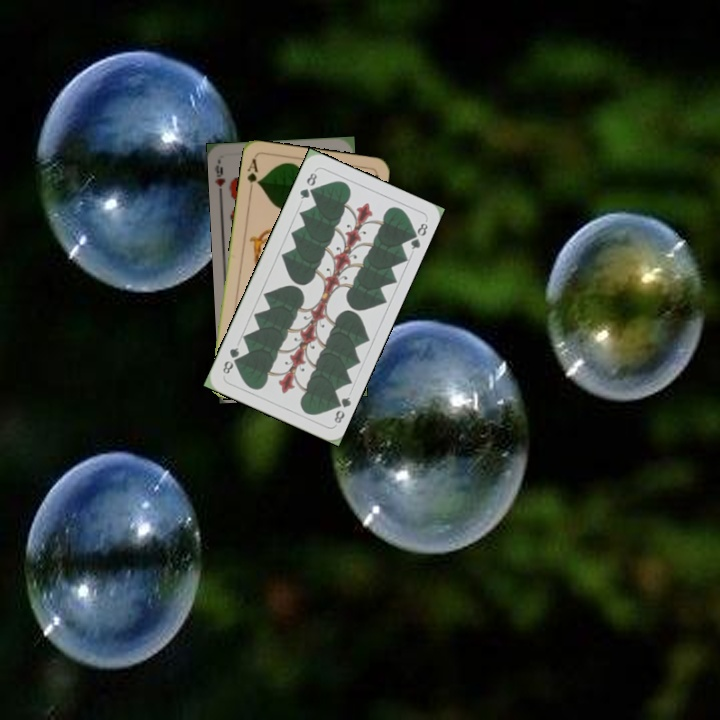G8: (296, 168, 320, 202), (329, 393, 353, 426)
GA: (243, 154, 262, 195)
H9: (211, 158, 228, 198)
